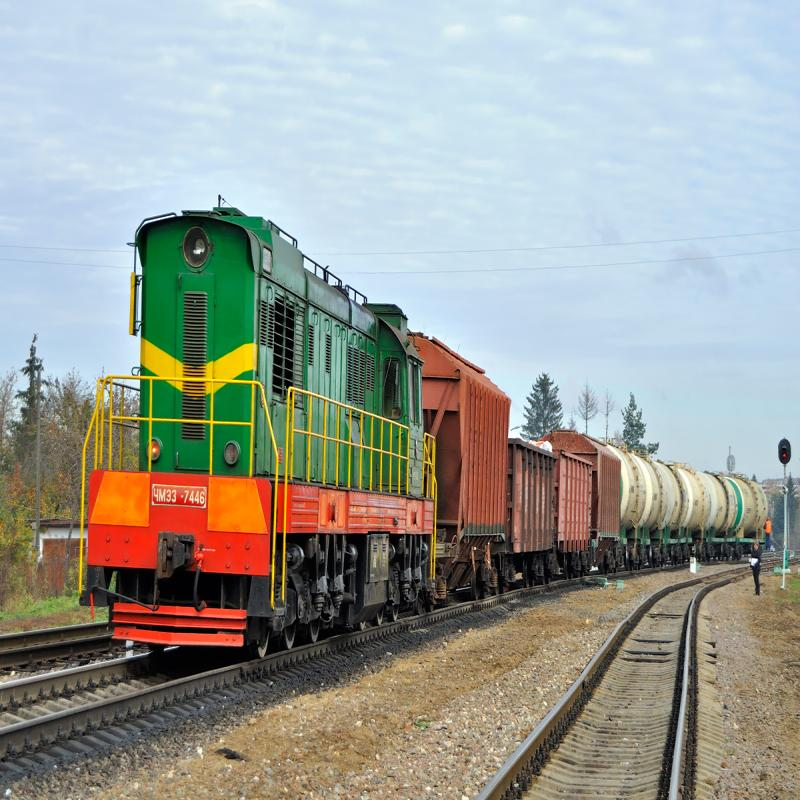train: (69, 162, 440, 688), (396, 321, 519, 636), (500, 421, 631, 598), (615, 456, 703, 571)
